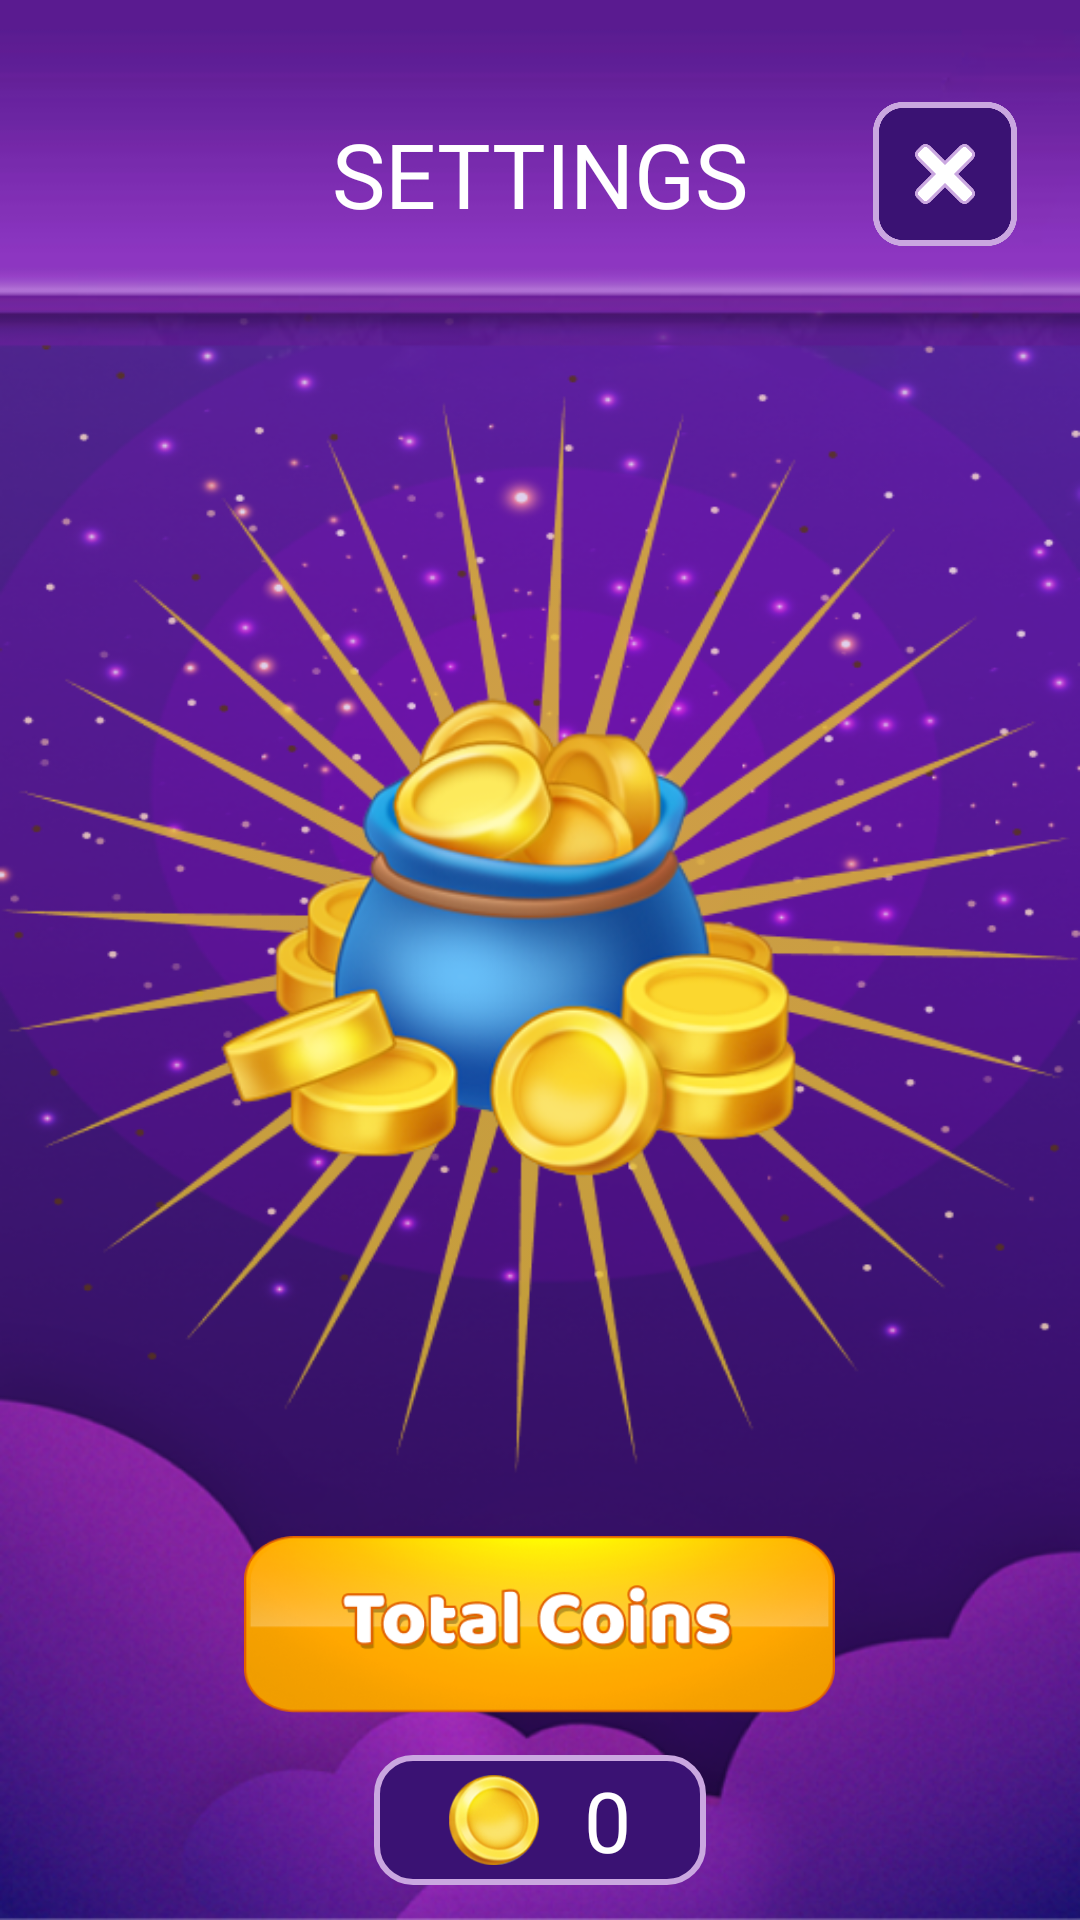

Icons on this 1080*1920 Android screen, each with the point to tap as point (x, y):
close: point (945, 174)
coin: point (494, 1820)
